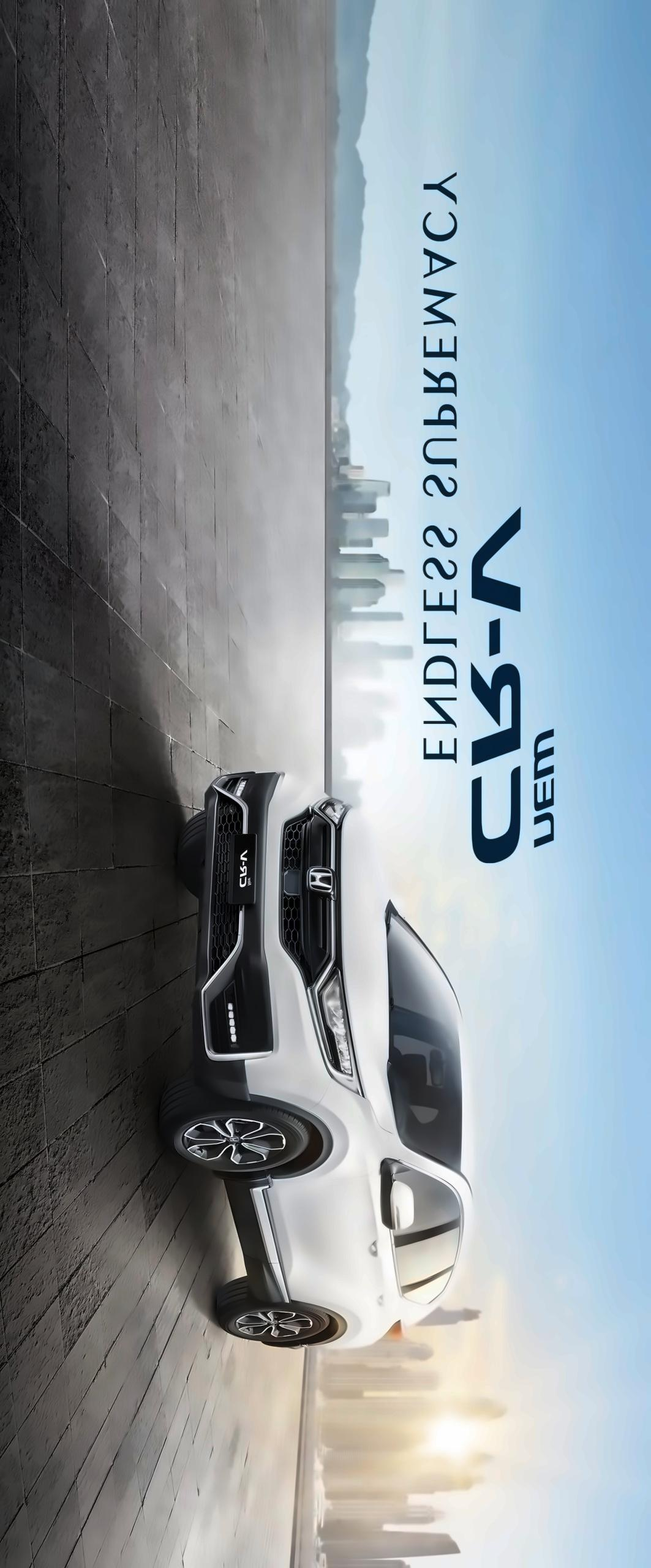Car hood: (337, 807, 406, 1139)
Fender - -F-L-: (240, 1094, 409, 1187)
Fender - -R-L-: (345, 1301, 423, 1339)
Front bumper: (178, 755, 300, 1108)
Headlight - -L-: (305, 956, 367, 1097)
Headlight - -R-: (303, 788, 359, 832)
Passenger-s door - -F-L-: (254, 1157, 469, 1255)
Passenger-s door - -R-L-: (265, 1235, 474, 1311)
Rear bumper: (267, 1331, 360, 1368)
Rear light - -R-: (371, 1316, 418, 1354)
Side bumper - -L-: (221, 1168, 297, 1313)
Side mirror - -R-: (375, 1172, 433, 1238)
